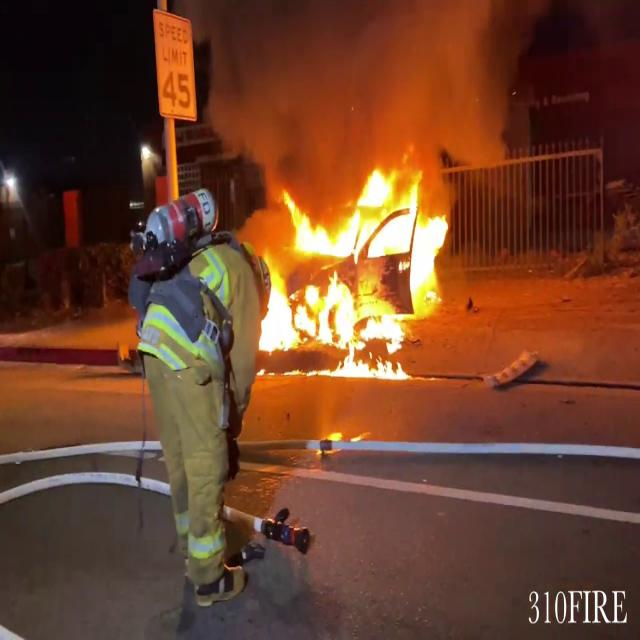Fire: (252, 152, 462, 378)
Smoke: (200, 0, 528, 194)
